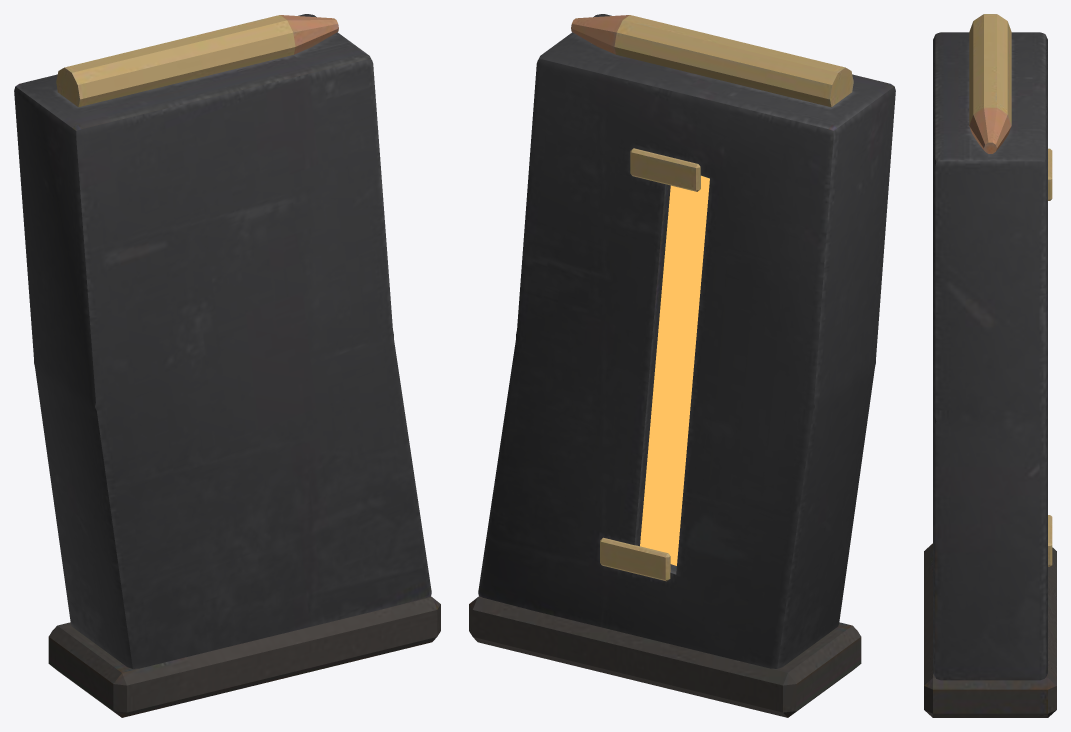
The model's file is ember_window_mag.glb.
3 views of the same model, side by side, from view 1: azimuth 30°, elevation 25°; view 2: azimuth 150°, elevation 25°; view 3: azimuth 270°, elevation 25° (orthographic). The views are drawn at different scales.
Visible parts, largest first — view 1: ember_window_mag; view 2: ember_window_mag, Window; view 3: ember_window_mag.
Part boxes in pixels (x1,y1,x2,y2): ember_window_mag: (14,14,440,717); ember_window_mag: (469,14,895,717); Window: (640,175,709,565); ember_window_mag: (924,14,1056,717).
Size of the model in its own units: 0.0849 by 0.1396 by 0.03.
2 materials, 1 textured.
